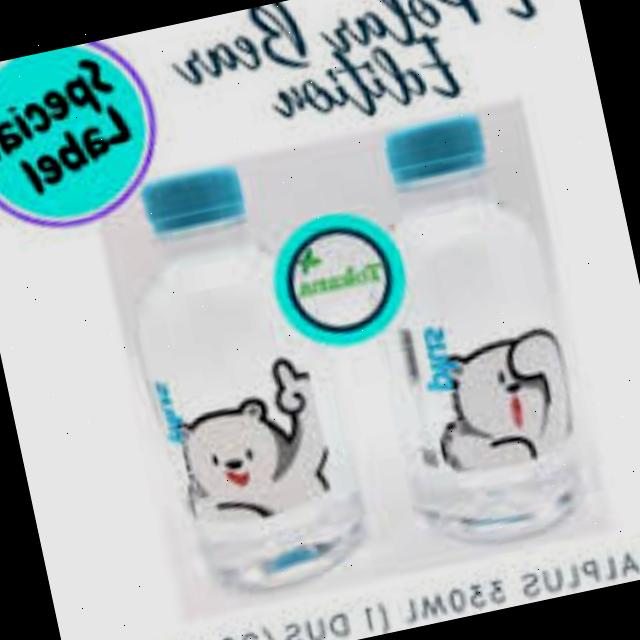trash: (305, 79, 621, 572), (102, 132, 392, 618)
